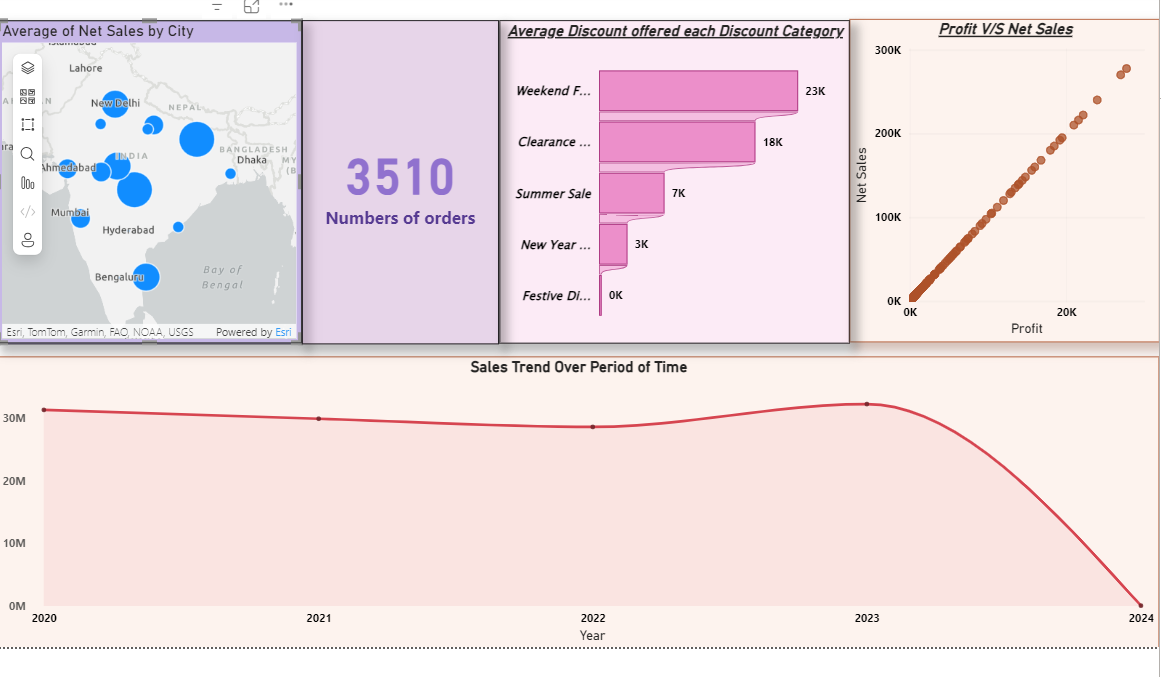

This screenshot's page, from the dashboard's own definition file:
{"tool":"powerbi","page":{"name":"Overview","canvas":[1280,720],"ordinal":1},"visuals":[{"type":"lineChart","title":"Sales Trend Over Period of Time","fields":{"Y":["Sum(Fact Table.Net Sales)"],"Category":["Fact Table.Date (dd/mm/yyyy).Variation.Date Hierarchy.Year","Fact Table.Date (dd/mm/yyyy).Variation.Date Hierarchy.Quarter","Fact Table.Date (dd/mm/yyyy).Variation.Date Hierarchy.Month","Fact Table.Date (dd/mm/yyyy).Variation.Date Hierarchy.Day"]},"box":[0,398.8,1280.2,322.1],"z":0},{"type":"scatterChart","title":"Profit V/S Net Sales","fields":{"X":["Avg(Fact Table.Profit)"],"Y":["Fact Table.Net Sales"]},"box":[938.4,27.9,341.9,355.8],"z":1000},{"type":"barChart","title":"Average Discount offered each Discount Category ","fields":{"Y":["Avg(Fact Table.Discount Value)"],"Category":["Fact Table.Dim Promotion.Promotion Name"]},"box":[552.9,28.6,385.7,355.7],"z":2000},{"type":"esriVisual","fields":{"Location":["Dim Customers.City"],"Size":["Avg(Fact Table.Net Sales)"]},"box":[0,28.9,335.9,356.6],"z":2001},{"type":"card","fields":{"Values":["CountNonNull(Fact Table.CustomerID)"]},"box":[336,29,217,357],"z":2002}]}

Visuals, with their boxes in screenshot pixels (x1, y1, x2, y2):
"Sales Trend Over Period of Time" lineChart: (3, 354, 1148, 642)
"Profit V/S Net Sales" scatterChart: (842, 22, 1148, 340)
"Average Discount offered each Discount Category " barChart: (498, 23, 843, 341)
esriVisual - Dim Customers.City x Avg(Fact Table.Net Sales): (3, 23, 303, 342)
card - CountNonNull(Fact Table.CustomerID): (304, 23, 498, 342)
